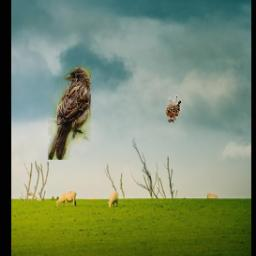Sparrow: (48, 67, 91, 161), (166, 95, 182, 123)
